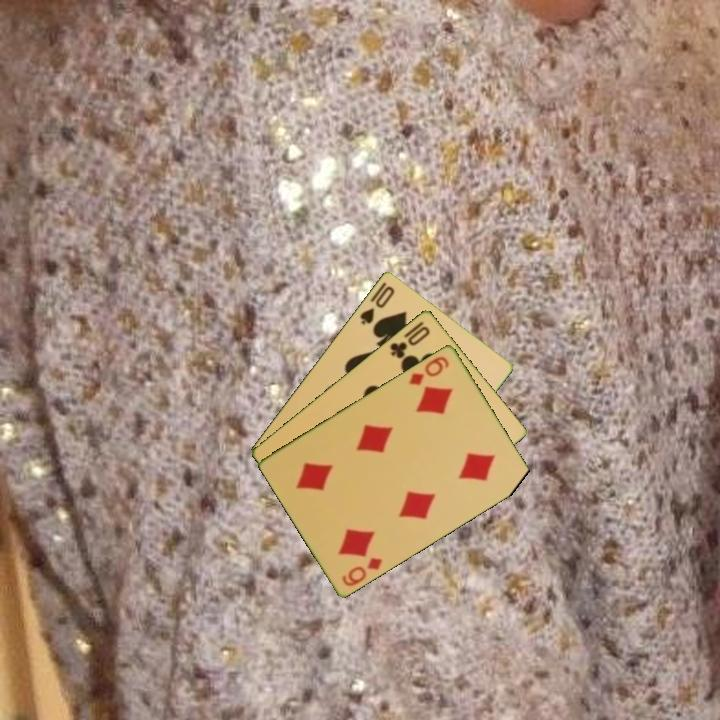10c: (386, 322, 433, 361)
10s: (356, 282, 397, 327)
6d: (405, 352, 452, 388), (338, 553, 385, 589)
